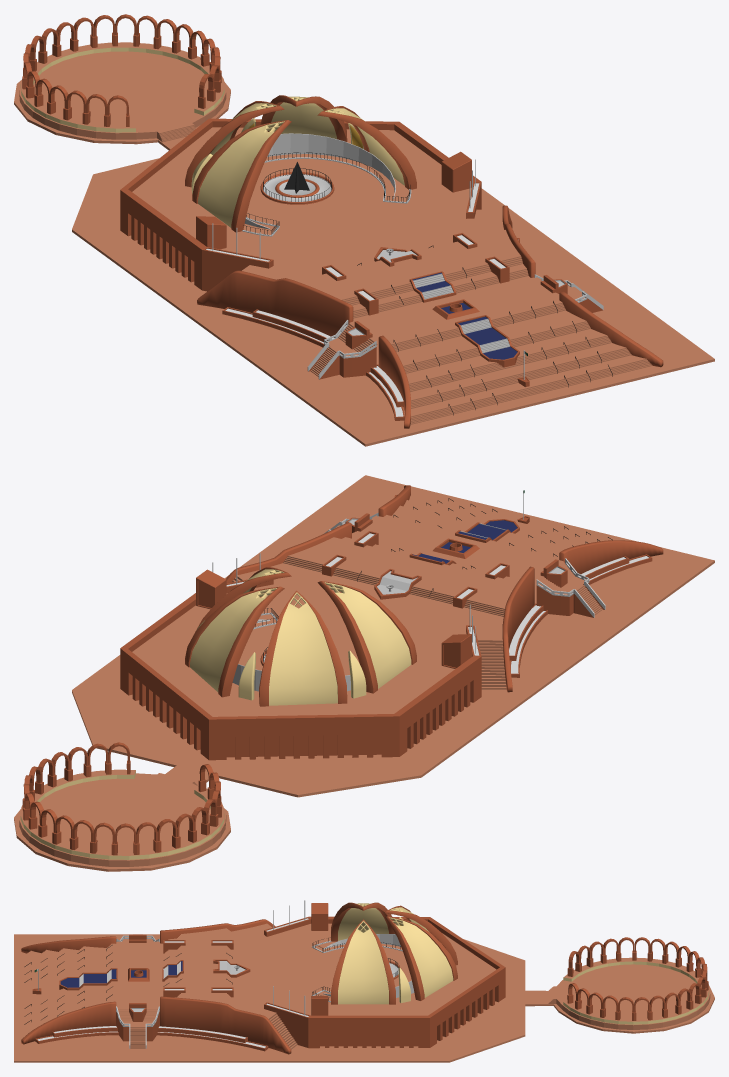
The model's file is pakistan monument sketchfab.fbx.
The picture shows the model from 3 angles, top to bottom: view 1: azimuth 30°, elevation 25°; view 2: azimuth 150°, elevation 25°; view 3: azimuth 270°, elevation 25°; orthographic projection. The views are drawn at different scales.
Parts seen in each view (by area): view 1: Cube, Plane, Plane.003, Plane.002, BezierCurve, Cube.010, Plane.001, Circle.002, BezierCurve.001, Cube.008, refernces.001, Cylinder (+5 smaller); view 2: Cube, Plane, Plane.002, Cube.010, Plane.003, Plane.001, BezierCurve, BezierCurve.001, refernces.001, Cube.008, Cylinder.008, Cube.004 (+2 smaller); view 3: Cube, Plane, Plane.002, Cube.010, Plane.003, BezierCurve, Plane.001, BezierCurve.001, refernces.001, Cube.008, Cube.006, Cube.007 (+8 smaller).
Boxes of the visible parts, left/top/right/bottom form: Cube: left=132, top=127, right=652, bottom=424; Plane: left=14, top=80, right=714, bottom=446; Plane.003: left=19, top=42, right=226, bottom=142; Plane.002: left=185, top=95, right=416, bottom=232; BezierCurve: left=197, top=205, right=663, bottom=428; Cube.010: left=120, top=118, right=481, bottom=291; Plane.001: left=22, top=14, right=221, bottom=126; Circle.002: left=244, top=133, right=395, bottom=229; BezierCurve.001: left=222, top=238, right=519, bottom=420; Cube.008: left=307, top=274, right=603, bottom=379; refernces.001: left=196, top=151, right=471, bottom=249; Cylinder: left=260, top=172, right=334, bottom=204; Cube: left=132, top=491, right=609, bottom=716; Plane: left=14, top=475, right=714, bottom=871; Plane.002: left=185, top=567, right=416, bottom=706; Cube.010: left=120, top=579, right=481, bottom=760; Plane.003: left=19, top=769, right=226, bottom=866; Plane.001: left=22, top=742, right=221, bottom=855; BezierCurve: left=226, top=485, right=663, bottom=692; BezierCurve.001: left=394, top=495, right=652, bottom=677; refernces.001: left=196, top=569, right=471, bottom=668; Cube.008: left=324, top=512, right=605, bottom=617; Cylinder.008: left=196, top=620, right=366, bottom=700; Cube.004: left=374, top=569, right=421, bottom=599; Cube: left=26, top=923, right=496, bottom=1049; Plane: left=14, top=934, right=714, bottom=1062; Plane.002: left=331, top=902, right=457, bottom=1004; Cube.010: left=264, top=916, right=505, bottom=1048; Plane.003: left=548, top=957, right=710, bottom=1029; BezierCurve: left=21, top=919, right=291, bottom=1054; Plane.001: left=567, top=937, right=708, bottom=1020; BezierCurve.001: left=35, top=1025, right=268, bottom=1051; refernces.001: left=311, top=903, right=328, bottom=1015; Cube.008: left=116, top=935, right=159, bottom=1048; Cube.006: left=60, top=969, right=116, bottom=987; Cube.007: left=129, top=934, right=146, bottom=1021.
Bounding box in the file's own units: 603 × 191 × 1411.
